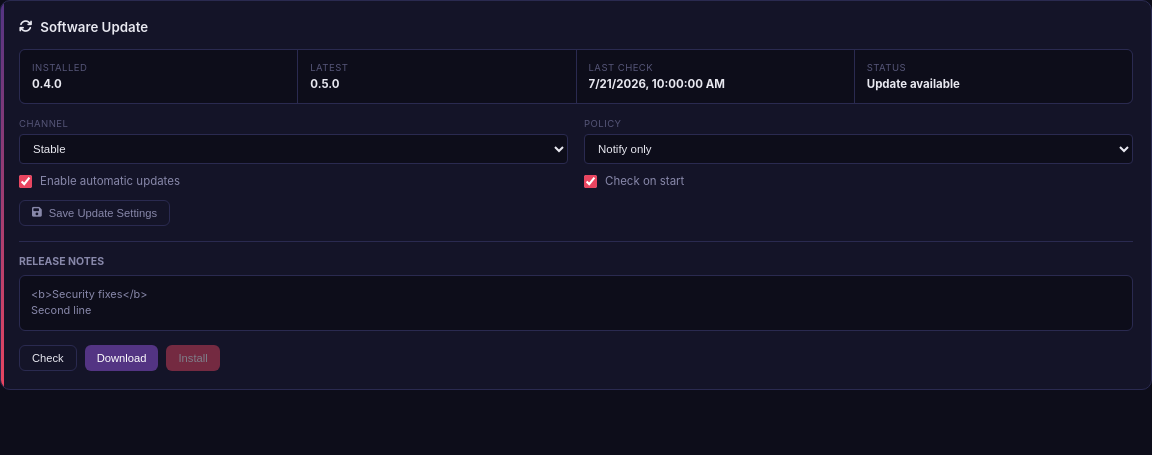
Test: SoftwareUpdateSection › does not submit duplicate download requests
The image size is (1152, 455).
Click the button "Download" at [122, 358], box [85, 345, 158, 371]
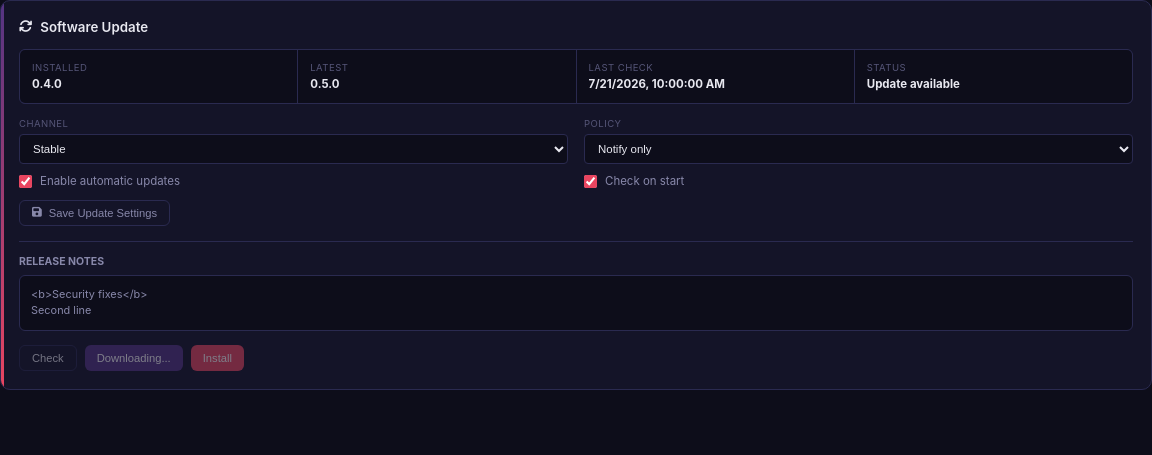
Click the button "Downloading..." at [134, 358], box [85, 345, 183, 371]
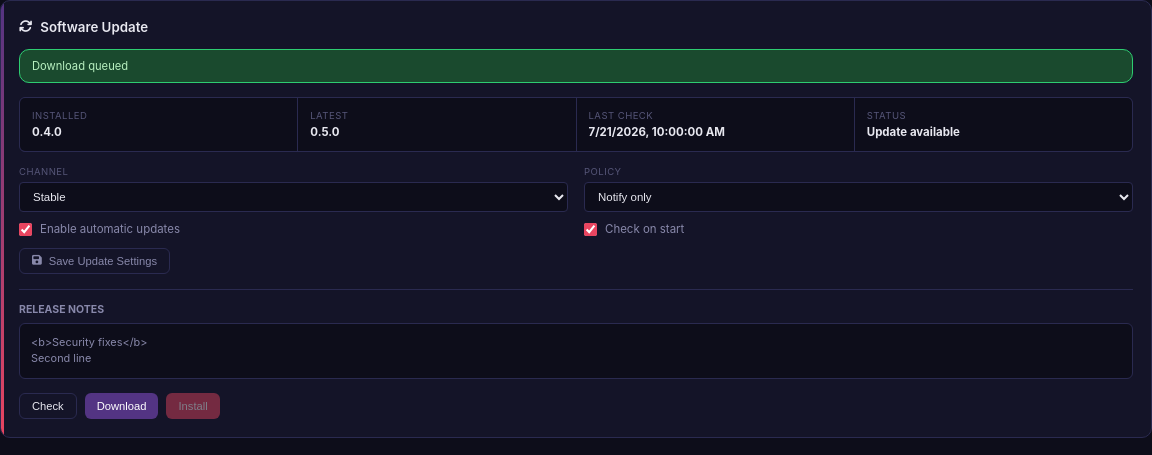
Check: the text "Download queued" is shown, box [19, 49, 1133, 83]
